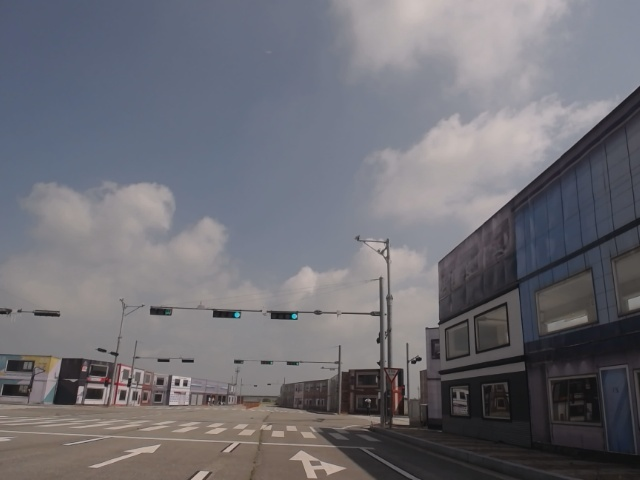straight_green_4: (269, 309, 298, 320), (214, 309, 240, 318)
